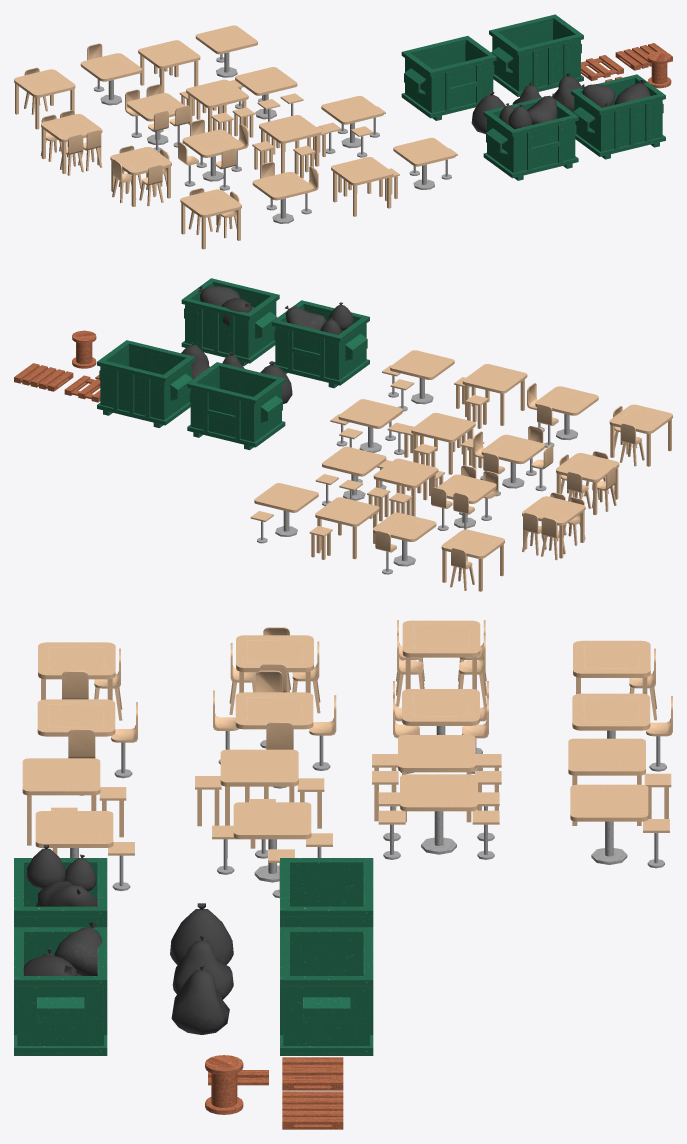
The model's file is GarbageTables.fbx.
3 renders of one model, top to bottom at view 1: azimuth 30°, elevation 25°; view 2: azimuth 150°, elevation 25°; view 3: azimuth 270°, elevation 25°, orthographic. The views are drawn at different scales.
Visible parts, largest first — view 1: TrashProps_Dumpster_A_2, TrashProps_Dumpster_B_2, TrashProps_Dumpster_A_1, TrashProps_Dumpster_B_1, TrashProps_Table_B_6, TrashProps_Table_A_4, TrashProps_Table_B_3, TrashProps_Table_B_5, TrashProps_Table_A_3, TrashProps_Table_B_4, TrashProps_Table_B_7, TrashProps_Table_A_6 (+13 smaller); view 2: TrashProps_Dumpster_A_2, TrashProps_Dumpster_A_1, TrashProps_Dumpster_B_1, TrashProps_Dumpster_B_2, TrashProps_Table_B_3, TrashProps_Table_B_6, TrashProps_Table_A_4, TrashProps_Table_A_3, TrashProps_Table_B_5, TrashProps_Table_B_4, TrashProps_Table_A_7, TrashProps_Table_B_7 (+14 smaller); view 3: TrashProps_Dumpster_B_2, TrashProps_Dumpster_B_1, TrashProps_Dumpster_A_2, TrashProps_Dumpster_A_1, TrashProps_Table_A_5, TrashProps_Table_B_6, TrashProps_Table_A_6, TrashProps_Table_A_4, TrashProps_Table_A_3, TrashProps_Table_B_3, TrashProps_Table_B_5, TrashProps_Table_B_8 (+14 smaller).
Boxes of the visible parts, x1,y1,x2,y2 form: TrashProps_Dumpster_A_2: (483,93,578,180); TrashProps_Dumpster_B_2: (571,74,665,159); TrashProps_Dumpster_A_1: (401,36,496,120); TrashProps_Dumpster_B_1: (489,14,583,96); TrashProps_Table_B_6: (178,119,248,190); TrashProps_Table_A_4: (252,115,327,178); TrashProps_Table_B_3: (40,110,102,175); TrashProps_Table_B_5: (110,145,171,206); TrashProps_Table_A_3: (179,79,254,137); TrashProps_Table_B_4: (125,84,190,152); TrashProps_Table_B_7: (180,188,241,249); TrashProps_Table_A_6: (318,96,385,157); TrashProps_Dumpster_A_2: (272,300,369,388); TrashProps_Dumpster_A_1: (187,362,285,450); TrashProps_Dumpster_B_1: (97,340,195,427); TrashProps_Dumpster_B_2: (181,278,279,366); TrashProps_Table_B_3: (522,492,585,560); TrashProps_Table_B_6: (473,426,553,496); TrashProps_Table_A_4: (403,413,484,474); TrashProps_Table_A_3: (367,458,444,521); TrashProps_Table_B_5: (556,451,619,515); TrashProps_Table_B_4: (431,465,498,530); TrashProps_Table_A_7: (454,364,527,428); TrashProps_Table_B_7: (609,404,672,466); TrashProps_Dumpster_B_2: (14,922,107,1055); TrashProps_Dumpster_B_1: (280,927,373,1055); TrashProps_Dumpster_A_2: (14,845,107,927); TrashProps_Dumpster_A_1: (280,858,373,927); TrashProps_Table_A_5: (378,774,499,859); TrashProps_Table_B_6: (213,670,336,788); TrashProps_Table_A_6: (212,802,332,898); TrashProps_Table_A_4: (195,749,324,848); TrashProps_Table_A_3: (372,735,501,822); TrashProps_Table_B_3: (396,620,486,706); TrashProps_Table_B_5: (229,627,320,714); TrashProps_Table_B_8: (37,699,137,795).
Size of the model in its own units: 17.3 by 1.89 by 10.59.
